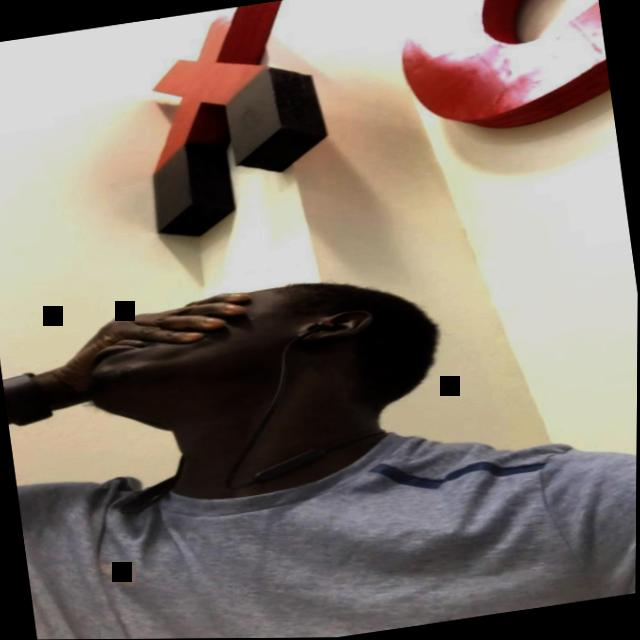NO-Mask: (75, 279, 334, 440)
